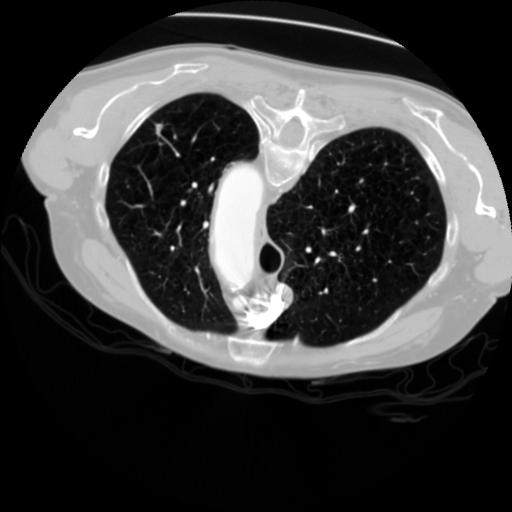nodule: (150, 122, 168, 140)
